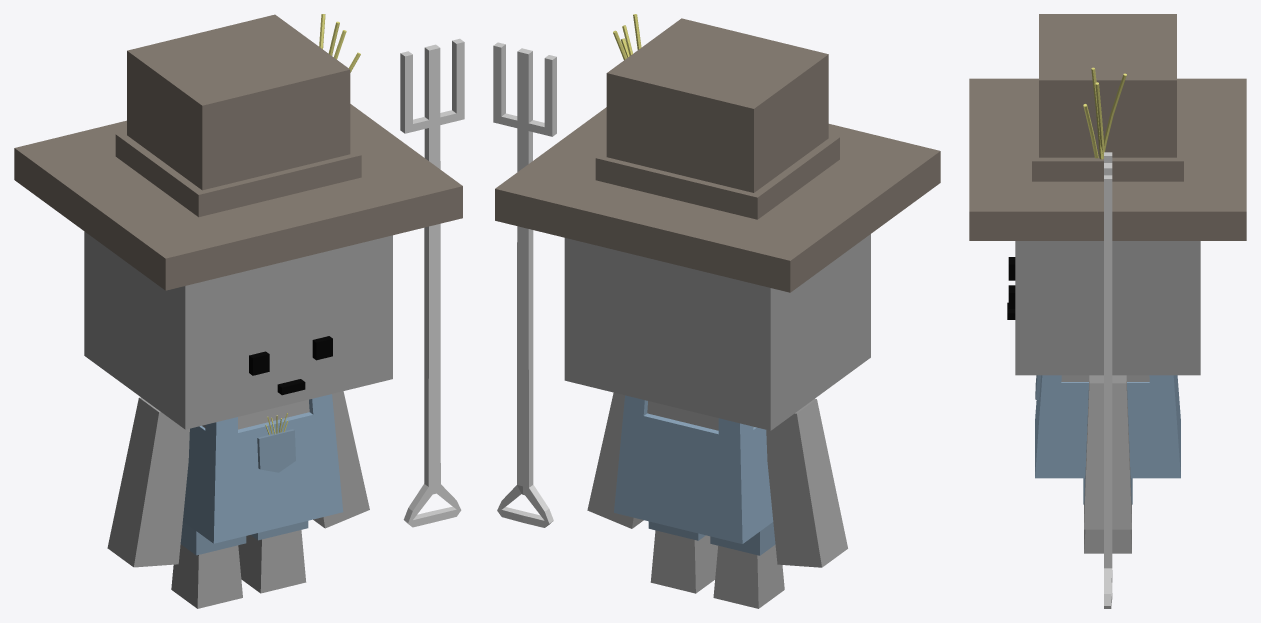
The model's file is FarmerARCharacter.fbx.
3 views of the same model, side by side, from view 1: azimuth 30°, elevation 25°; view 2: azimuth 150°, elevation 25°; view 3: azimuth 270°, elevation 25° (orthographic). The views are drawn at different scales.
Parts seen in each view (by area): view 1: Head, Hat_Top, Hat_Brim, Overalls_Base, Pitch_Fork, Left_Arm, Left_Leg, Right_Leg, Right_Arm, Overalls_Pocket, Torso, Left_Leg_Pants (+1 smaller); view 2: Head, Hat_Top, Hat_Brim, Overalls_Base, Pitch_Fork, Left_Arm, Left_Leg, Right_Leg, Right_Arm, Torso, Left_Leg_Pants; view 3: Hat_Brim, Head, Hat_Top, Overalls_Base, Right_Arm, Pitch_Fork, Hay, Right_Leg.
Boxes of the visible parts, x1,y1,x2,y2 form: Head: (84, 231, 392, 429); Hat_Top: (115, 14, 361, 217); Hat_Brim: (14, 104, 462, 290); Overalls_Base: (183, 394, 343, 543); Pitch_Fork: (400, 38, 464, 527); Left_Arm: (107, 397, 189, 567); Left_Leg: (171, 544, 242, 608); Right_Leg: (238, 530, 306, 593); Right_Arm: (313, 391, 369, 528); Overalls_Pocket: (257, 429, 295, 472); Torso: (202, 399, 309, 429); Left_Leg_Pants: (180, 521, 246, 555); Head: (564, 234, 870, 430); Hat_Top: (595, 18, 839, 219); Hat_Brim: (495, 107, 940, 292); Overalls_Base: (614, 395, 773, 543); Pitch_Fork: (493, 42, 556, 527); Left_Arm: (766, 399, 847, 567); Left_Leg: (713, 544, 784, 608); Right_Leg: (650, 530, 717, 593); Right_Arm: (587, 392, 643, 528); Torso: (647, 401, 753, 430); Left_Leg_Pants: (710, 522, 775, 555); Hat_Brim: (969, 78, 1246, 240); Head: (1015, 241, 1200, 375); Hat_Top: (1032, 14, 1183, 181); Overalls_Base: (1035, 375, 1180, 478); Right_Arm: (1084, 375, 1131, 529); Pitch_Fork: (1104, 152, 1112, 608); Hay: (1083, 67, 1126, 159); Right_Leg: (1084, 529, 1131, 553).
Bounding box in the file's own units: 2.39 × 3.36 × 1.68.
